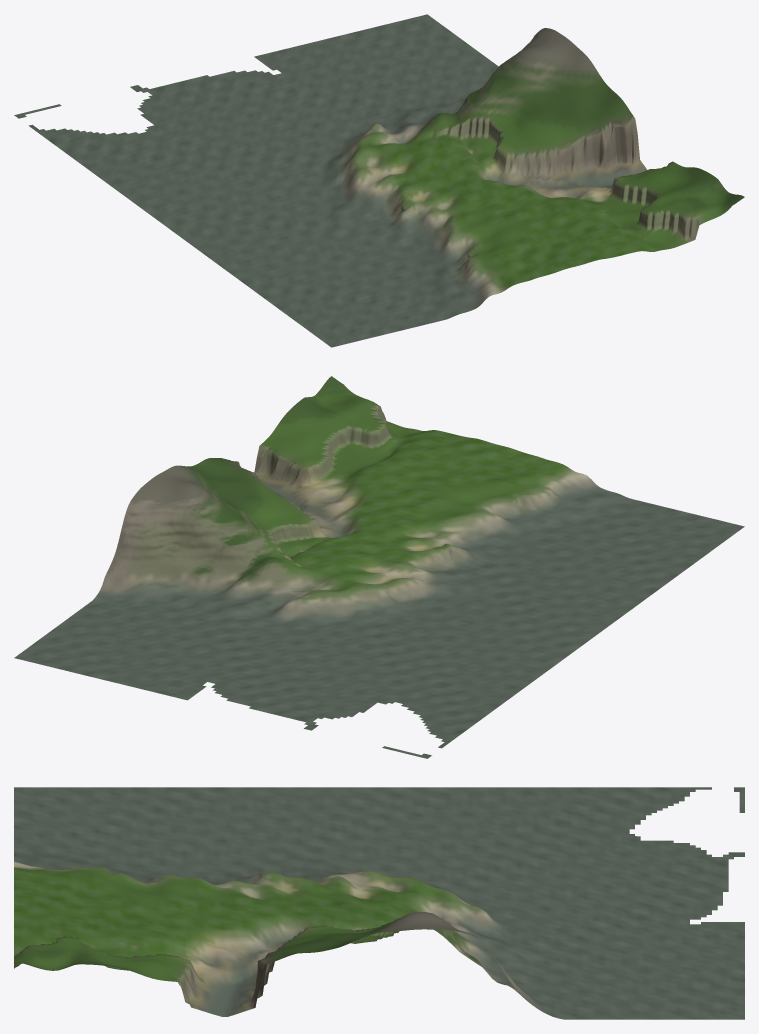
The model's file is coast_tile_x0z0.glb.
3 renders of one model, top to bottom at view 1: azimuth 30°, elevation 25°; view 2: azimuth 150°, elevation 25°; view 3: azimuth 270°, elevation 25°, orthographic. The views are drawn at different scales.
Parts seen in each view (by area): view 1: coast_tile_x0z0; view 2: coast_tile_x0z0; view 3: coast_tile_x0z0.
Boxes of the visible parts, <box> form: coast_tile_x0z0: <box>14,14,744,347</box>; coast_tile_x0z0: <box>14,376,744,758</box>; coast_tile_x0z0: <box>14,787,744,1019</box>.
Bounding box in the file's own units: 600 × 109 × 798.
